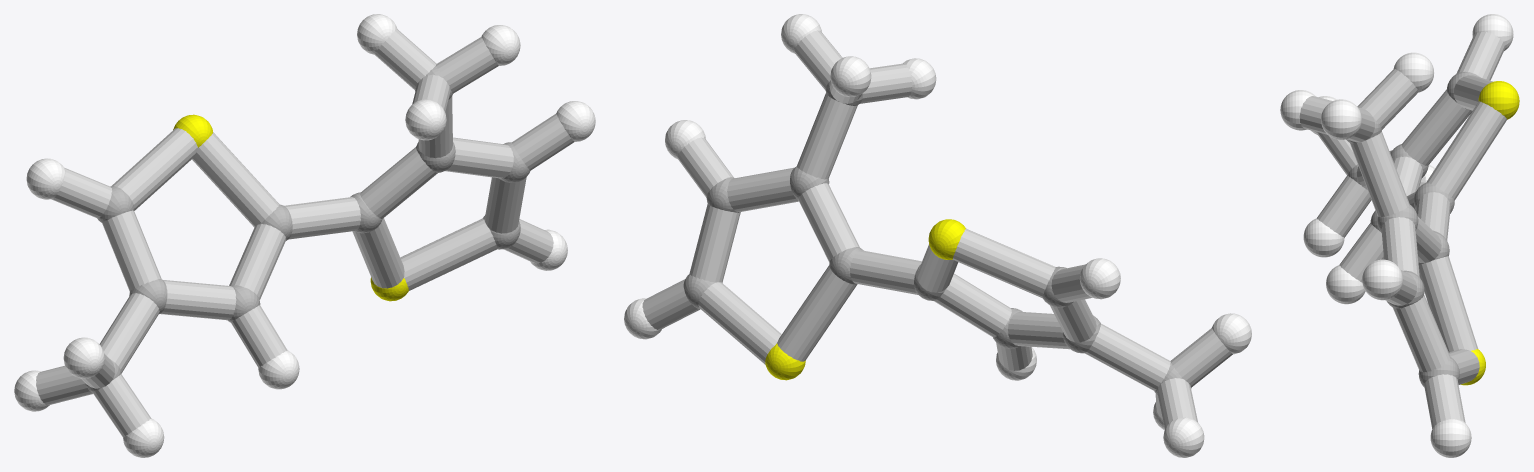
File: color.glb
3 renders of one model, left to right at view 1: azimuth 30°, elevation 25°; view 2: azimuth 150°, elevation 25°; view 3: azimuth 270°, elevation 25°, orthographic.
Visible parts, largest first — view 1: grp7965, grp3621, grp1, grp7241; view 2: grp7965, grp3621, grp1, grp7241; view 3: grp7965, grp3621, grp1, grp7241.
Part boxes in pixels (<box>): grp7965: <box>36,29,574,437</box>; grp3621: <box>14,14,595,457</box>; grp1: <box>85,66,530,392</box>; grp7241: <box>173,114,408,301</box>; grp7965: <box>642,30,1232,428</box>; grp3621: <box>624,14,1251,457</box>; grp1: <box>683,80,1191,395</box>; grp7241: <box>765,219,965,380</box>; grp7965: <box>1299,31,1507,428</box>; grp3621: <box>1280,14,1513,457</box>; grp1: <box>1346,71,1480,387</box>; grp7241: <box>1461,81,1519,385</box>.
Bounding box in the file's own units: 9.43 × 5.43 × 3.5.
